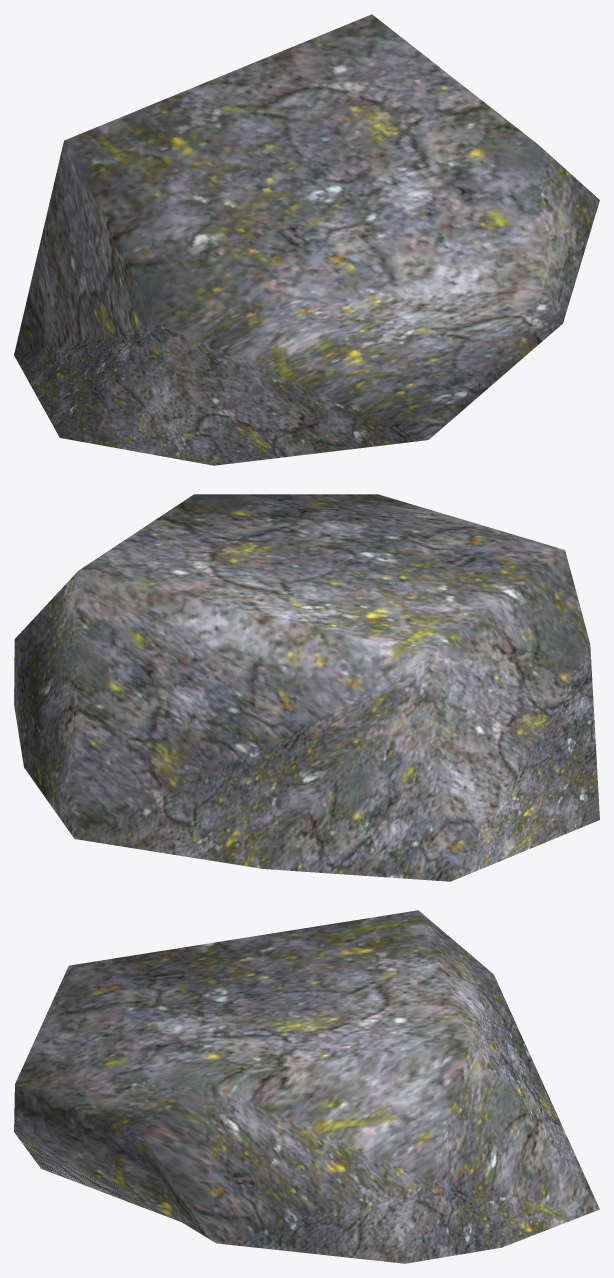
Rendered from rock_weatheredmossy_medium_a2_l1.fbx.
3 views of the same model, one above another, from view 1: azimuth 30°, elevation 25°; view 2: azimuth 150°, elevation 25°; view 3: azimuth 270°, elevation 25° (orthographic). The views are drawn at different scales.
Parts seen in each view (by area): view 1: mesh_node; view 2: mesh_node; view 3: mesh_node.
Boxes of the visible parts, x1,y1,x2,y2 form: mesh_node: [14, 14, 599, 465]; mesh_node: [14, 494, 599, 881]; mesh_node: [14, 910, 599, 1263].
Size of the model in its own units: 0.4028 by 0.1761 by 0.4115.
Materials: 1 (1 with a texture image).
